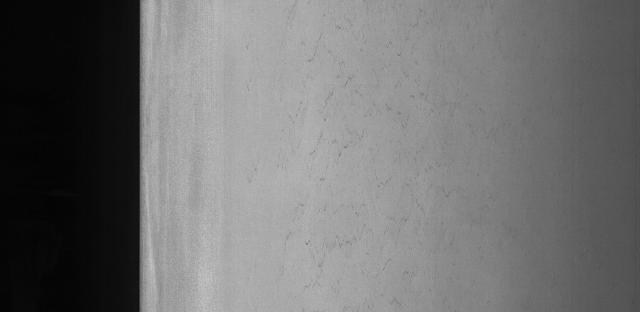silk_spot: (278, 28, 445, 268)
